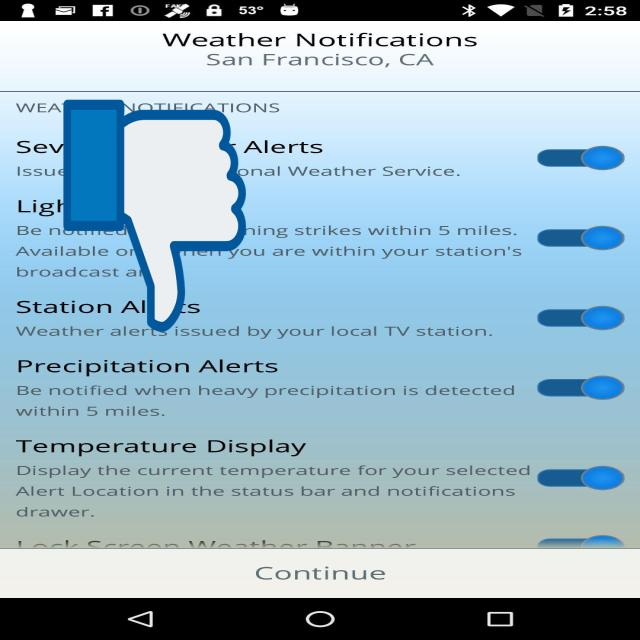obstruction: (63, 95, 246, 337)
